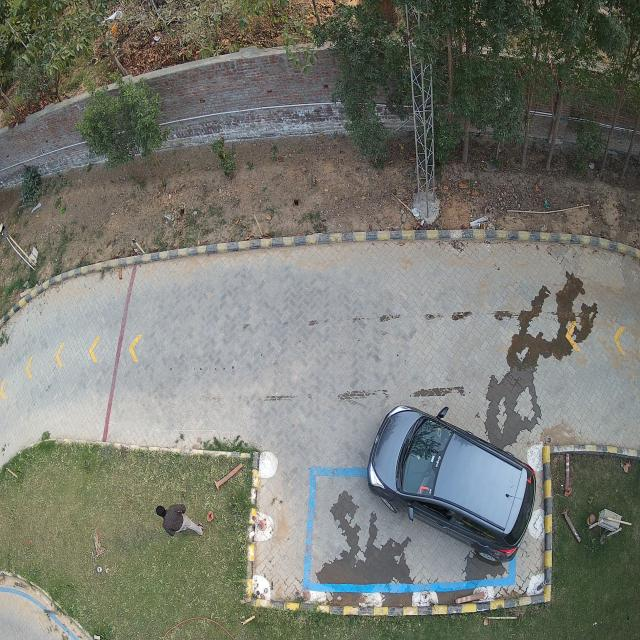car: (366, 404, 536, 564)
